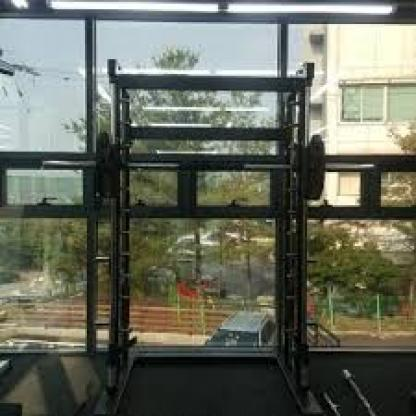smith machine: (94, 57, 331, 416)
